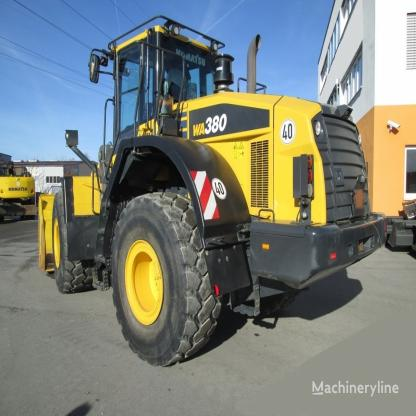bull_dozer/loader/grader: (30, 14, 394, 377)
